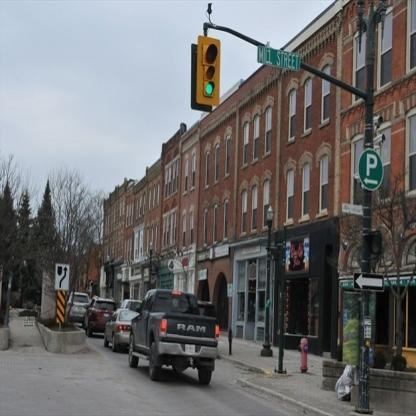Traffic Signal: (196, 36, 220, 106)
